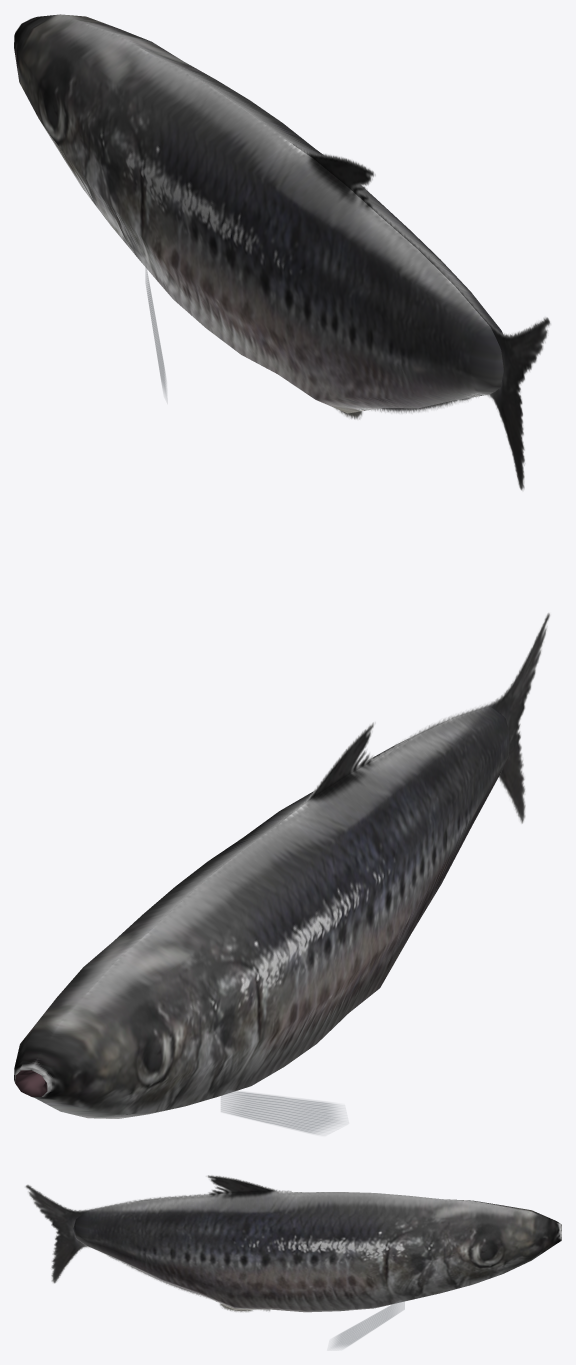
The model's file is animal_fish_sardine_vat.glb.
3 renders of one model, top to bottom at view 1: azimuth 30°, elevation 25°; view 2: azimuth 150°, elevation 25°; view 3: azimuth 270°, elevation 25°, orthographic. The views are drawn at different scales.
Visible parts, largest first — view 1: animal_fish_sardine_vat; view 2: animal_fish_sardine_vat; view 3: animal_fish_sardine_vat.
Boxes of the visible parts, x1,y1,x2,y2 form: animal_fish_sardine_vat: (14, 14, 550, 490); animal_fish_sardine_vat: (14, 613, 550, 1135); animal_fish_sardine_vat: (25, 1175, 561, 1350).
Bounding box in the file's own units: 0.0367 × 0.0615 × 0.1859.
2 materials, 2 textured.
